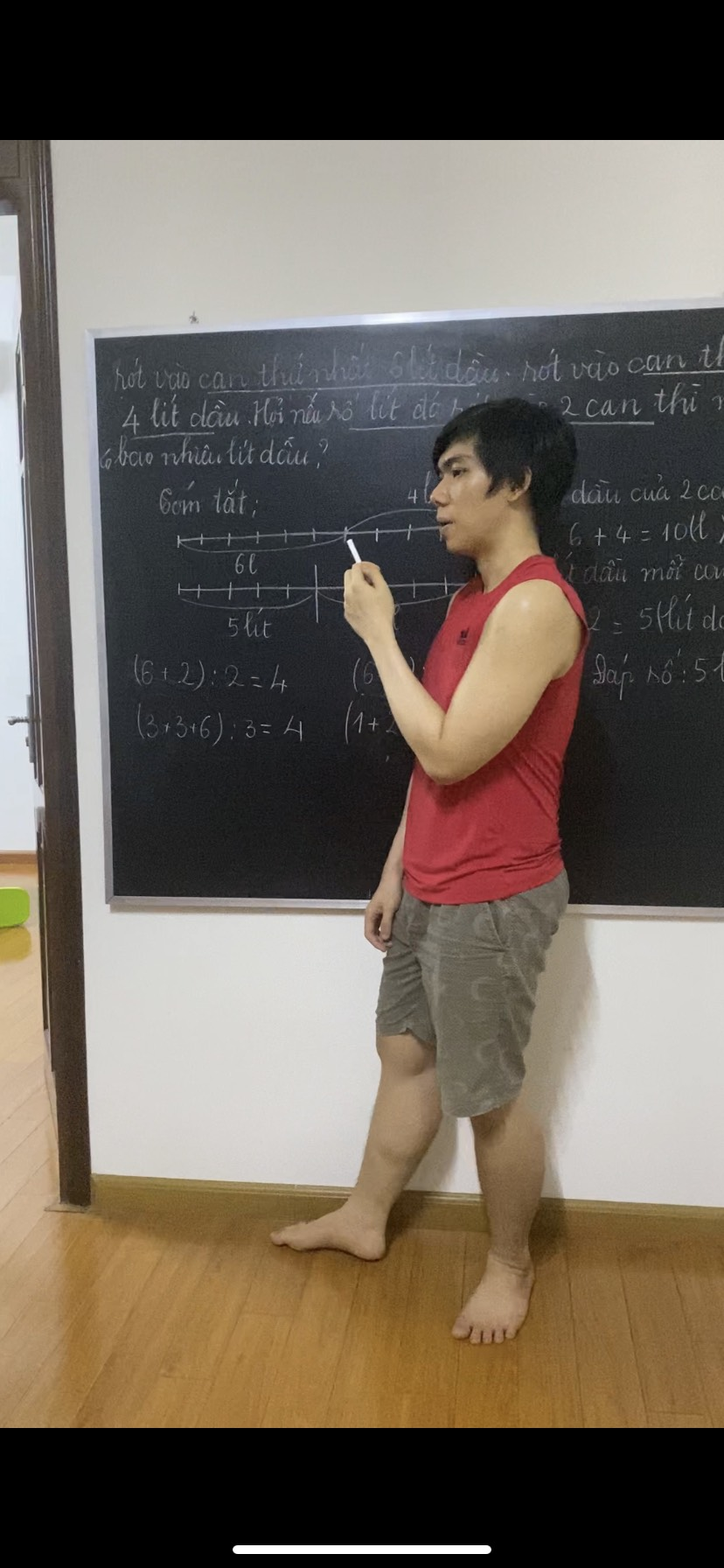cigarette: (341, 534, 365, 564)
person: (305, 364, 599, 1342)
